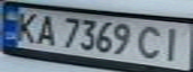3: (78, 17, 100, 52)
6: (93, 19, 115, 55)
7: (57, 15, 81, 49)
9: (112, 20, 136, 56)
A: (30, 12, 60, 46)
C: (136, 24, 166, 61)
I: (157, 25, 190, 62)
K: (9, 9, 42, 44)
